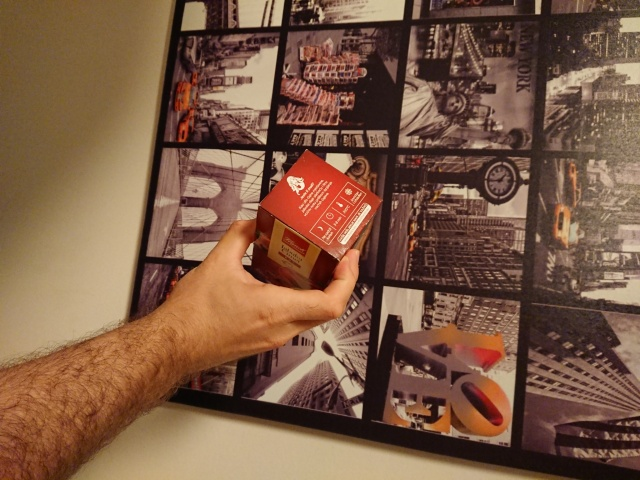Franck Apple Cinnamon Tea 60g: (242, 145, 386, 328)
